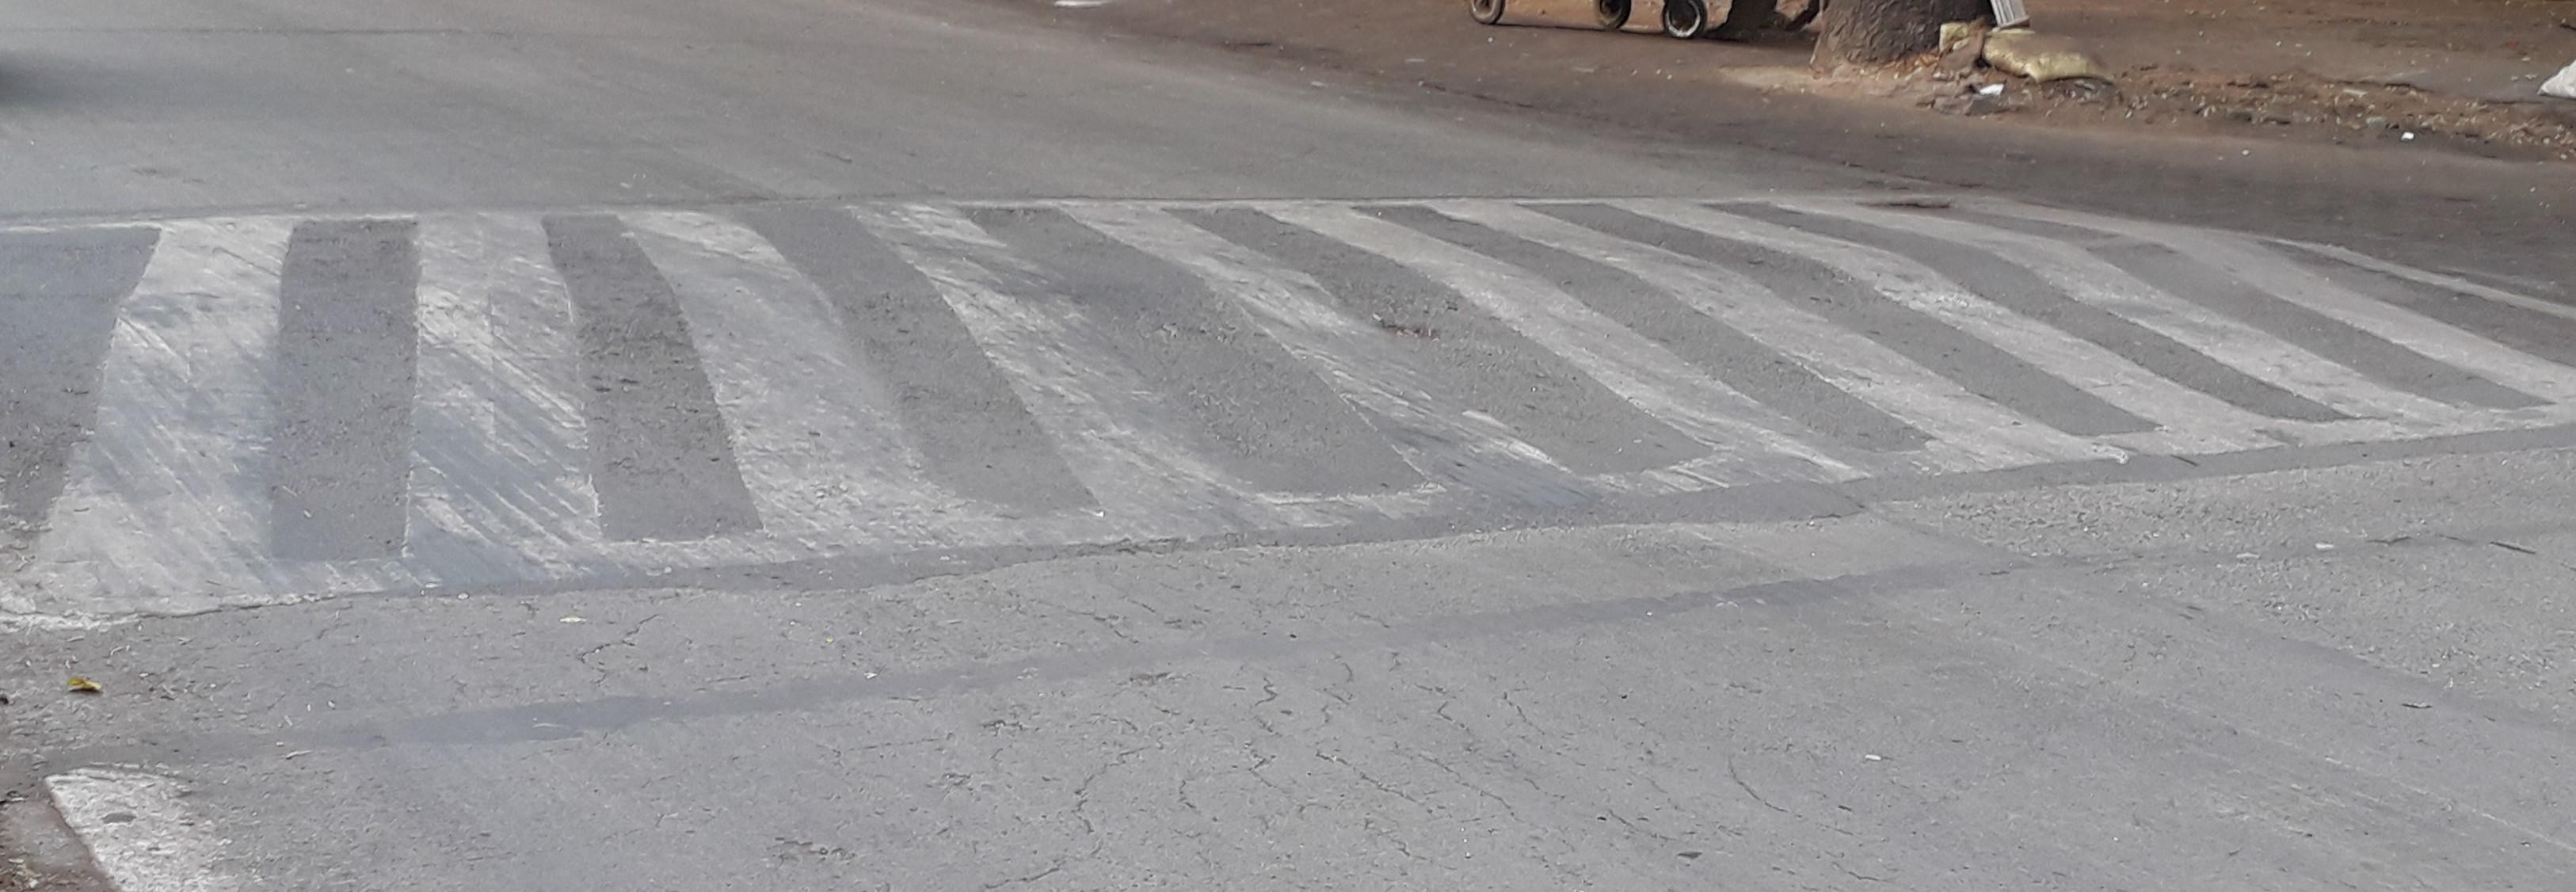speed-bump: (8, 185, 2576, 620)
